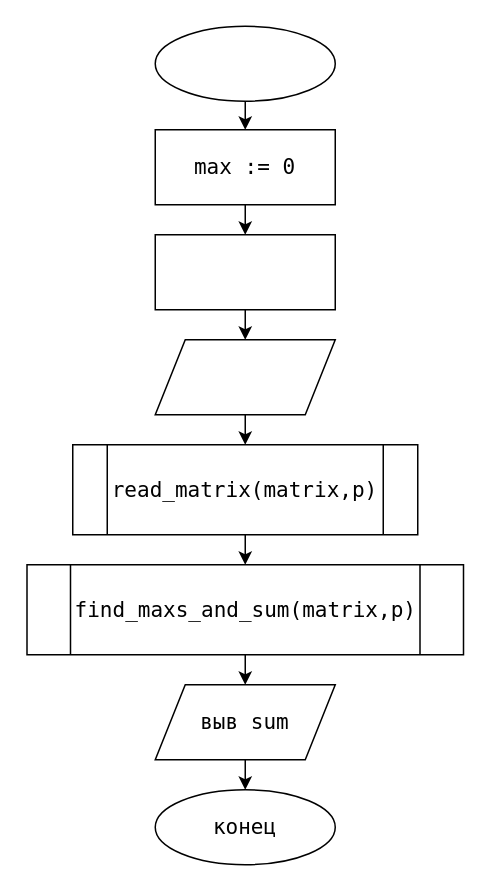
Image size: 489x891. Some labels were removed from this diagram. Here are the shapes that lost their labels. From the top down, the centre of each, then its label:
point (244, 63): начало
point (244, 271): sum := 0
point (244, 376): вв p
